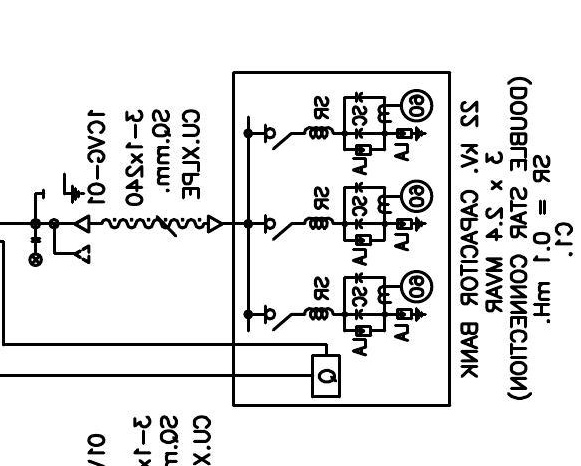22_cap_bank: (231, 70, 452, 408)
22_gs: (41, 171, 86, 205)
22_ll: (27, 236, 44, 268)
Q: (311, 353, 342, 399)
terminator_single: (206, 214, 224, 235)
terminator_w_future: (52, 213, 91, 265)
